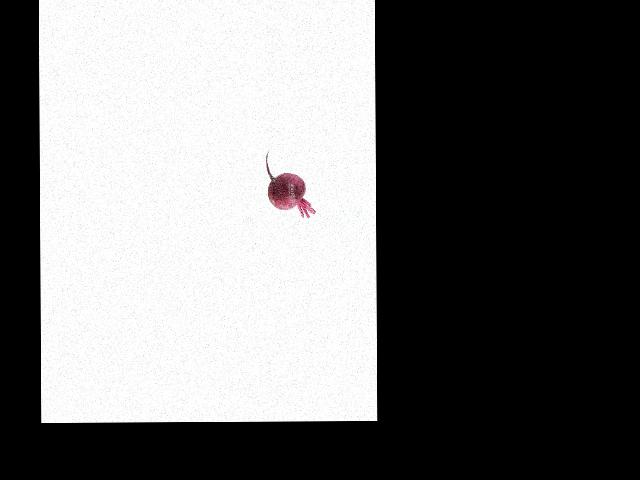beet: (266, 149, 315, 218)
